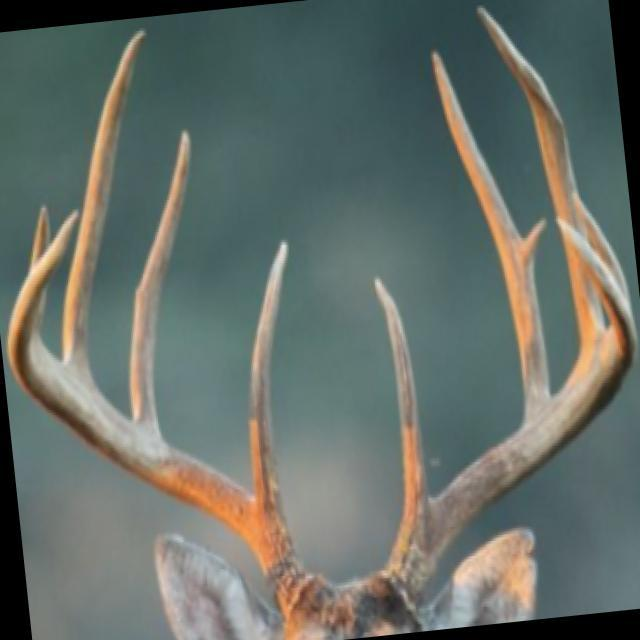E1: (521, 218, 547, 262)
L-F: (387, 213, 636, 599)
L-G1: (373, 275, 429, 515)
L-G2: (432, 49, 551, 419)
R-F: (6, 205, 316, 622)
R-G1: (247, 238, 288, 522)
R-G2: (127, 127, 191, 436)
R-G3: (61, 30, 147, 376)
